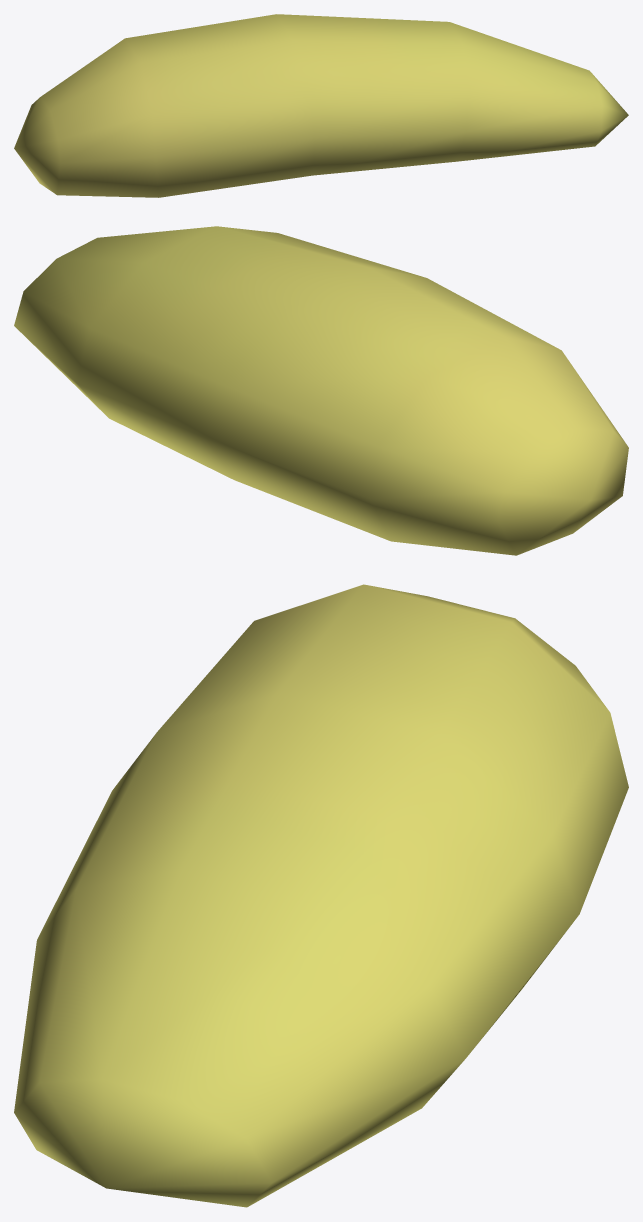
The model's file is PC_Woman_Eyebrow005_L.glb.
3 views of the same model, one above another, from view 1: azimuth 30°, elevation 25°; view 2: azimuth 150°, elevation 25°; view 3: azimuth 270°, elevation 25° (orthographic). The views are drawn at different scales.
Parts seen in each view (by area): view 1: PC_Woman_Eyebrow005_L_mesh; view 2: PC_Woman_Eyebrow005_L_mesh; view 3: PC_Woman_Eyebrow005_L_mesh.
Boxes of the visible parts, x1,y1,x2,y2 form: PC_Woman_Eyebrow005_L_mesh: (14,14,628,197); PC_Woman_Eyebrow005_L_mesh: (14,226,628,555); PC_Woman_Eyebrow005_L_mesh: (14,584,628,1207).
Bounding box in the file's own units: 0.1496 × 0.0376 × 0.0793.
1 material, 1 textured.
